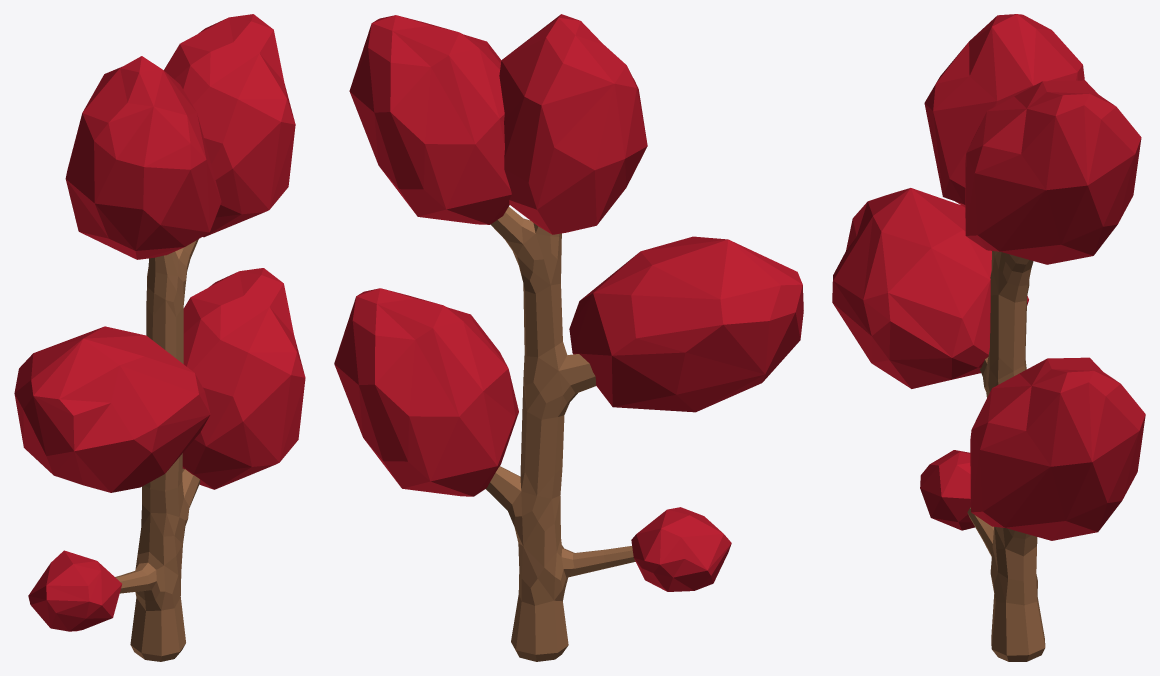
File: tree-dead-complete-11-003.glb
3 renders of one model, left to right at view 1: azimuth 30°, elevation 25°; view 2: azimuth 150°, elevation 25°; view 3: azimuth 270°, elevation 25°, orthographic. The views are drawn at different scales.
Parts seen in each view (by area): view 1: TREE 11.007_499, TREE 11.006_500; view 2: TREE 11.007_499, TREE 11.006_500; view 3: TREE 11.007_499, TREE 11.006_500.
Boxes of the visible parts, <box> form: TREE 11.007_499: <box>14,14,305,631</box>; TREE 11.006_500: <box>115,239,200,661</box>; TREE 11.007_499: <box>334,14,803,591</box>; TREE 11.006_500: <box>486,206,635,661</box>; TREE 11.007_499: <box>832,14,1145,540</box>; TREE 11.006_500: <box>967,251,1045,661</box>.
Bounding box in the file's own units: 1.25 × 2.09 × 0.9391.
